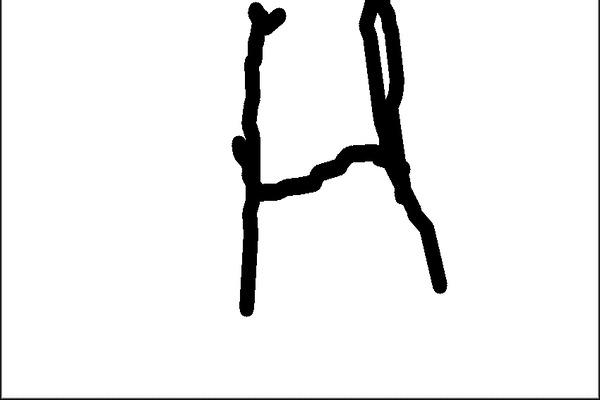H: (220, 0, 450, 319)
